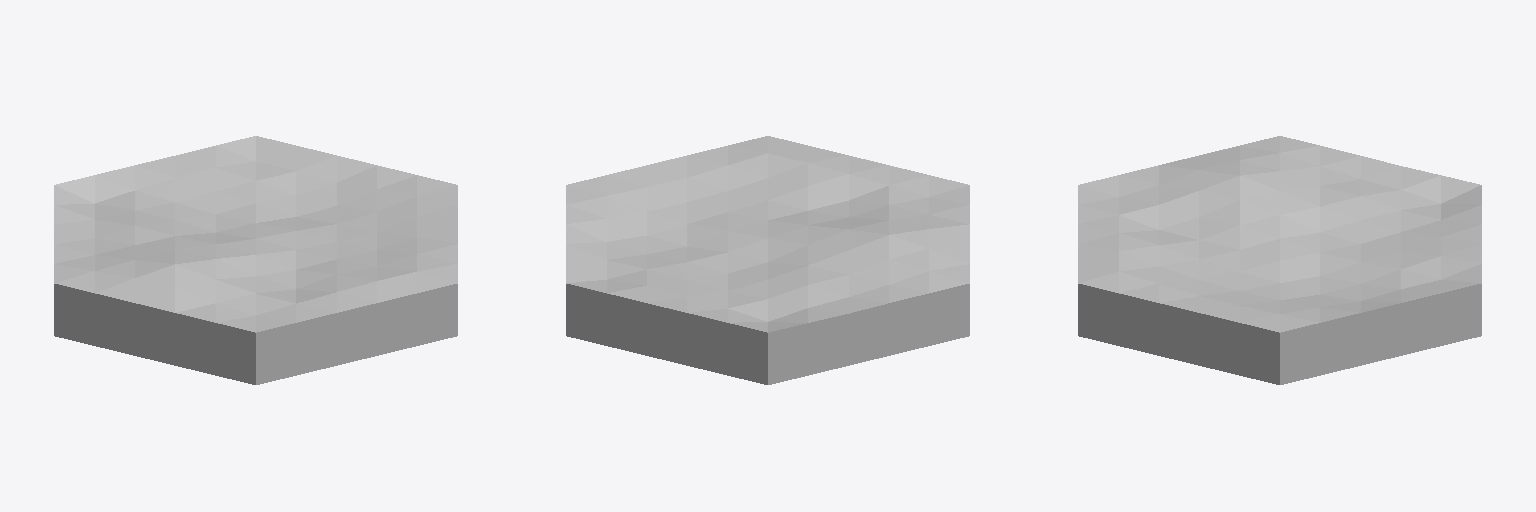
The model's file is wheat.obj.
3 views of the same model, side by side, from view 1: azimuth 30°, elevation 25°; view 2: azimuth 150°, elevation 25°; view 3: azimuth 270°, elevation 25° (orthographic).
Visible parts, largest first — view 1: Wheat_Plane.004; view 2: Wheat_Plane.004; view 3: Wheat_Plane.004.
Boxes of the visible parts, <box> form: Wheat_Plane.004: <box>54,136,457,384</box>; Wheat_Plane.004: <box>566,136,969,384</box>; Wheat_Plane.004: <box>1078,136,1481,384</box>.
Size of the model in its own units: 4 by 0.5869 by 3.46.